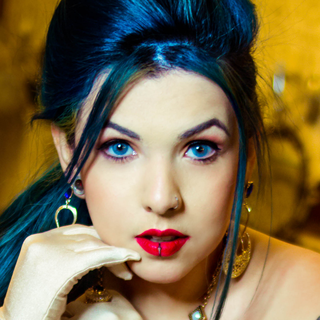eye: (180, 134, 224, 164), (99, 134, 141, 163)
